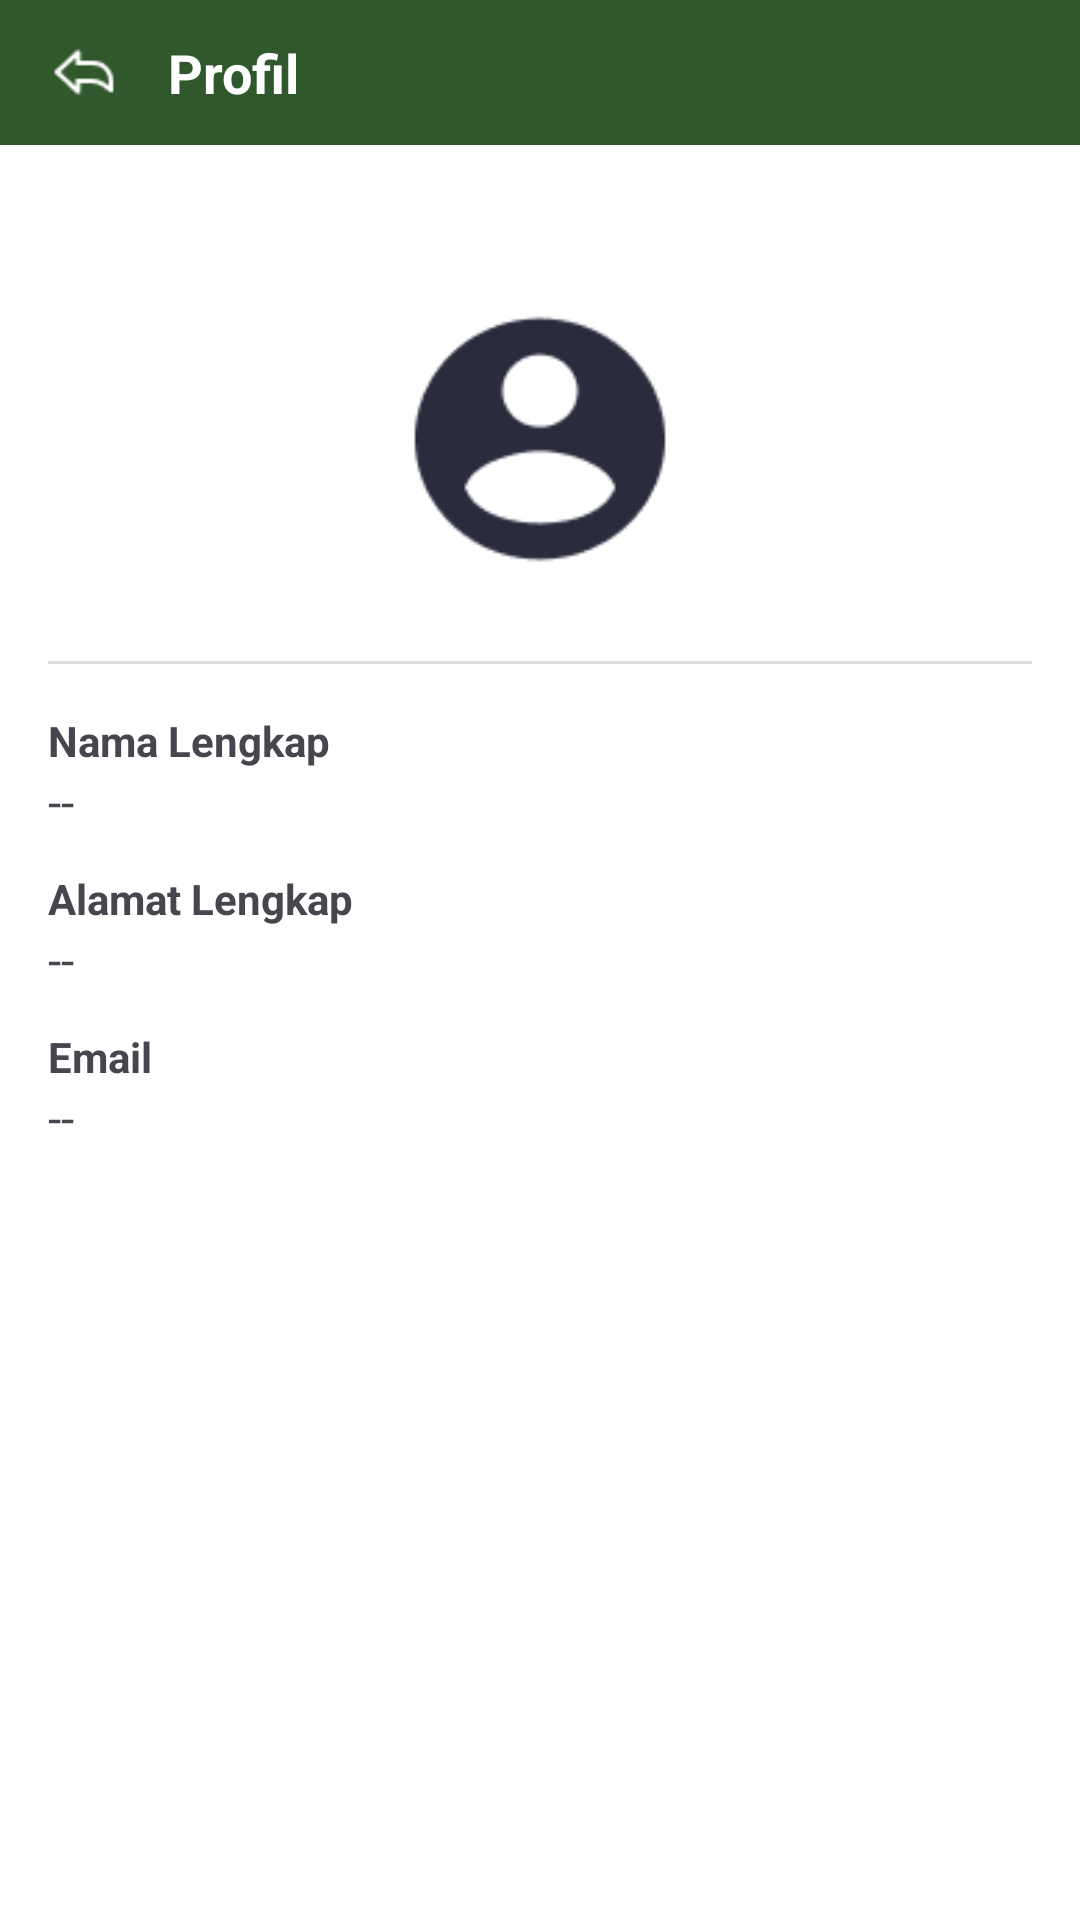

Point at icon controls on the screen. Image size 1080 x 1920, points as [x,y].
Foto Profil: [540,439]
Kembali: [84,72]
